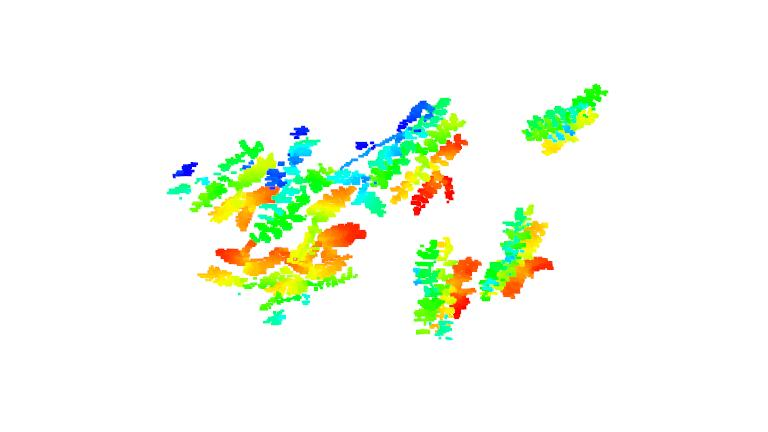chickpea: (371, 97, 479, 215), (166, 133, 288, 233), (264, 118, 367, 223), (409, 231, 491, 346), (291, 218, 381, 319), (478, 197, 558, 308), (519, 83, 616, 160), (209, 240, 299, 318)
